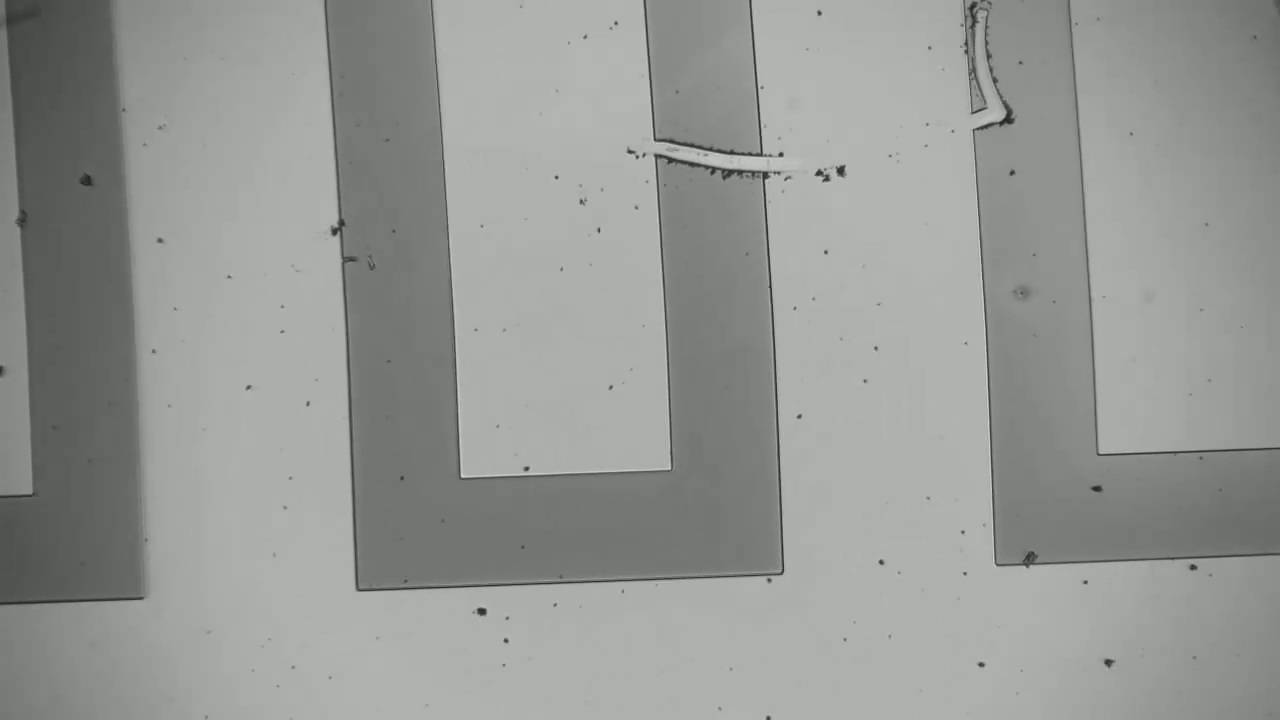Short_circuit: (635, 120, 796, 199)
